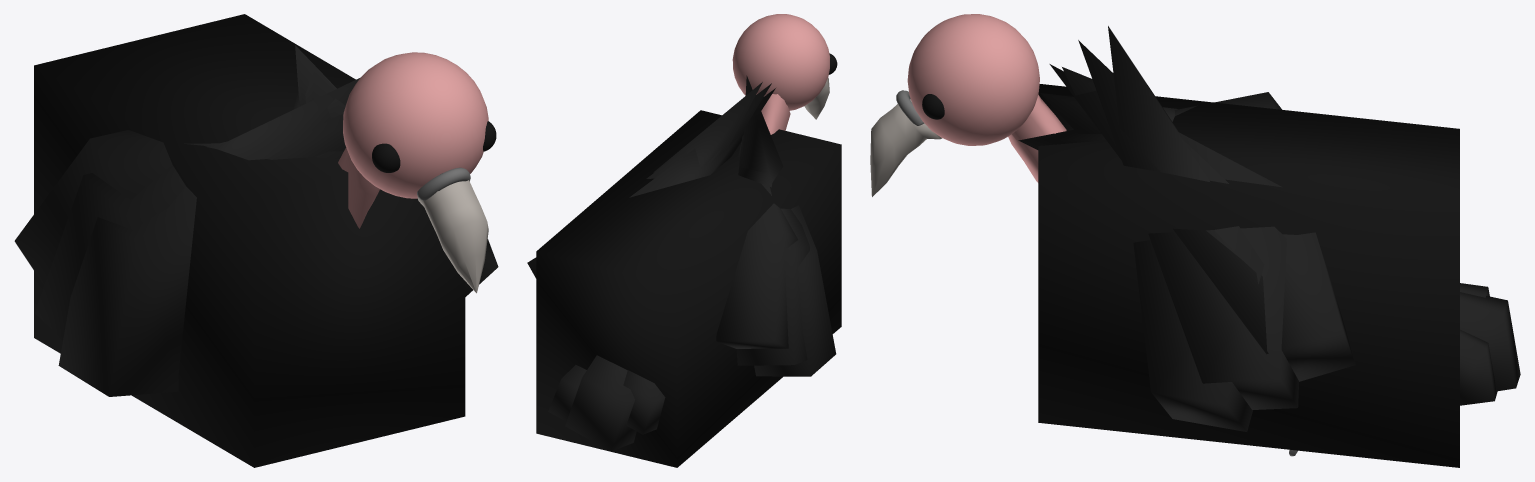
The model's file is Zopilote2.glb.
The picture shows the model from 3 angles, left to right: view 1: azimuth 30°, elevation 25°; view 2: azimuth 150°, elevation 25°; view 3: azimuth 270°, elevation 25°; orthographic projection. The views are drawn at different scales.
Visible parts, largest first — view 1: Cube, Cube.009, Sphere, Cube.008, Cube.007, Cylinder.001, Cylinder, Cube.006, Torus.001, Sphere.001; view 2: Cube, Cube.007, Sphere, Cube.009, Cube.002, Cube.008, Cube.006, Cube.001, Cube.004, Cube.005, Cylinder, Cube.003 (+1 smaller); view 3: Cube, Cube.003, Cube.006, Cube.001, Sphere, Cube.002, Cylinder.001, Cube.005, Cylinder, Cube.007, Cube.008.
Boxes of the visible parts, x1=… form: Cube: x1=34, y1=14, x2=465, y2=467; Cube.009: x1=58, y1=78, x2=359, y2=396; Sphere: x1=343, y1=52, x2=488, y2=198; Cube.008: x1=35, y1=114, x2=346, y2=339; Cube.007: x1=14, y1=130, x2=343, y2=285; Cylinder.001: x1=417, y1=180, x2=488, y2=293; Cylinder: x1=338, y1=148, x2=379, y2=228; Cube.006: x1=295, y1=45, x2=498, y2=296; Torus.001: x1=417, y1=167, x2=470, y2=200; Sphere.001: x1=372, y1=143, x2=400, y2=172; Cube: x1=536, y1=110, x2=841, y2=467; Cube.007: x1=716, y1=142, x2=797, y2=348; Sphere: x1=732, y1=14, x2=829, y2=110; Cube.009: x1=742, y1=75, x2=836, y2=376; Cube.002: x1=565, y1=355, x2=636, y2=451; Cube.008: x1=736, y1=135, x2=809, y2=365; Cube.006: x1=653, y1=82, x2=762, y2=172; Cube.001: x1=527, y1=88, x2=775, y2=278; Cube.004: x1=623, y1=370, x2=665, y2=434; Cube.005: x1=548, y1=365, x2=586, y2=421; Cylinder: x1=761, y1=94, x2=790, y2=134; Cube.003: x1=646, y1=83, x2=771, y2=178; Cube: x1=1038, y1=84, x2=1459, y2=467; Cube.003: x1=1078, y1=40, x2=1298, y2=409; Cube.006: x1=1108, y1=26, x2=1263, y2=431; Cube.001: x1=1049, y1=64, x2=1355, y2=381; Sphere: x1=907, y1=14, x2=1039, y2=145; Cube.002: x1=1460, y1=292, x2=1520, y2=391; Cylinder.001: x1=870, y1=99, x2=941, y2=196; Cube.005: x1=1460, y1=329, x2=1497, y2=405; Cylinder: x1=1008, y1=94, x2=1066, y2=182; Cube.007: x1=1018, y1=92, x2=1281, y2=149; Cube.008: x1=1040, y1=93, x2=1177, y2=133.
Bounding box in the file's own units: 1.26 × 1.38 × 1.91.
